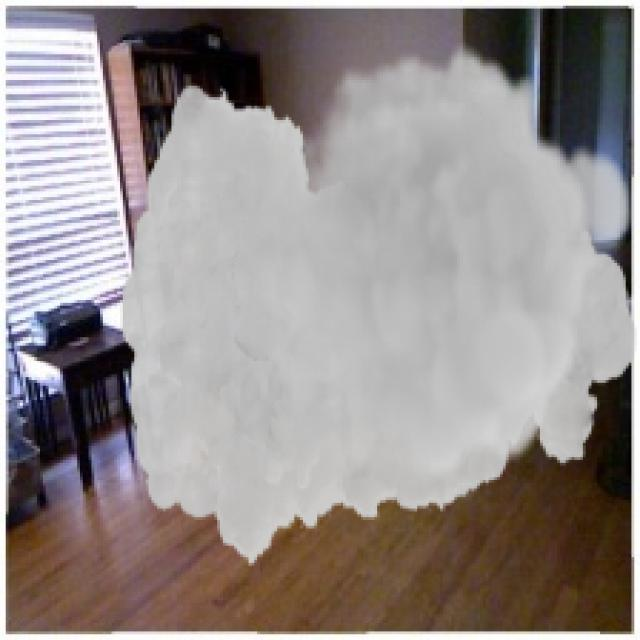smoke: (120, 43, 637, 568)
